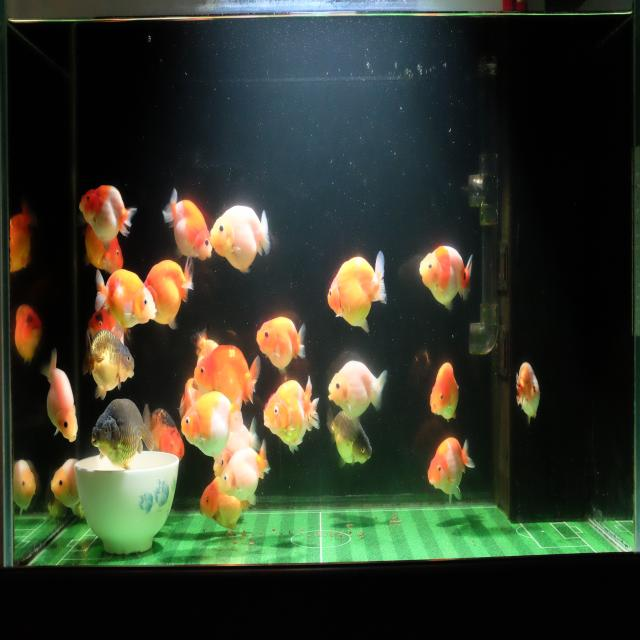Tilapia: (326, 249, 388, 336), (179, 388, 245, 467), (194, 342, 260, 417), (90, 396, 154, 472), (208, 202, 270, 276), (94, 268, 156, 340), (78, 183, 138, 255), (328, 360, 387, 433), (262, 373, 315, 453), (81, 328, 136, 402), (144, 254, 196, 332), (161, 186, 213, 262), (418, 244, 474, 310), (41, 348, 78, 447), (218, 439, 270, 506), (426, 436, 476, 504), (326, 403, 374, 470), (256, 314, 306, 378), (198, 476, 250, 533), (428, 359, 461, 425), (84, 221, 124, 274), (9, 202, 35, 280), (150, 407, 185, 462), (514, 359, 541, 427), (14, 302, 41, 368), (50, 455, 81, 511), (12, 458, 38, 521)
